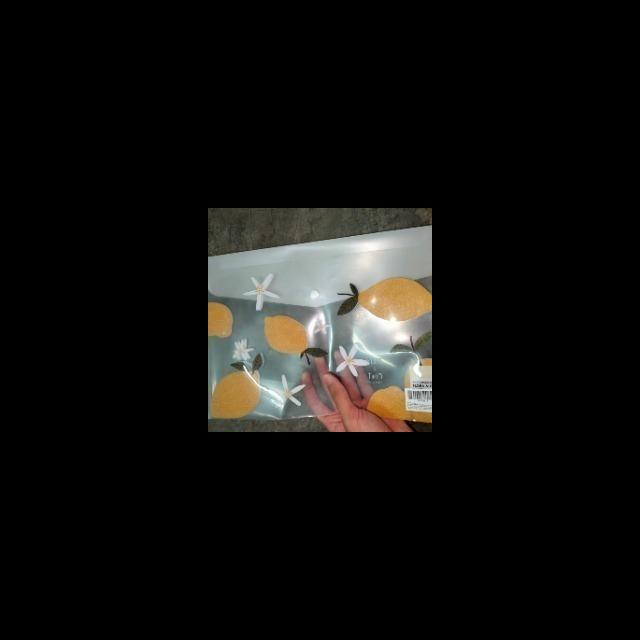plastic: (208, 227, 432, 421)
